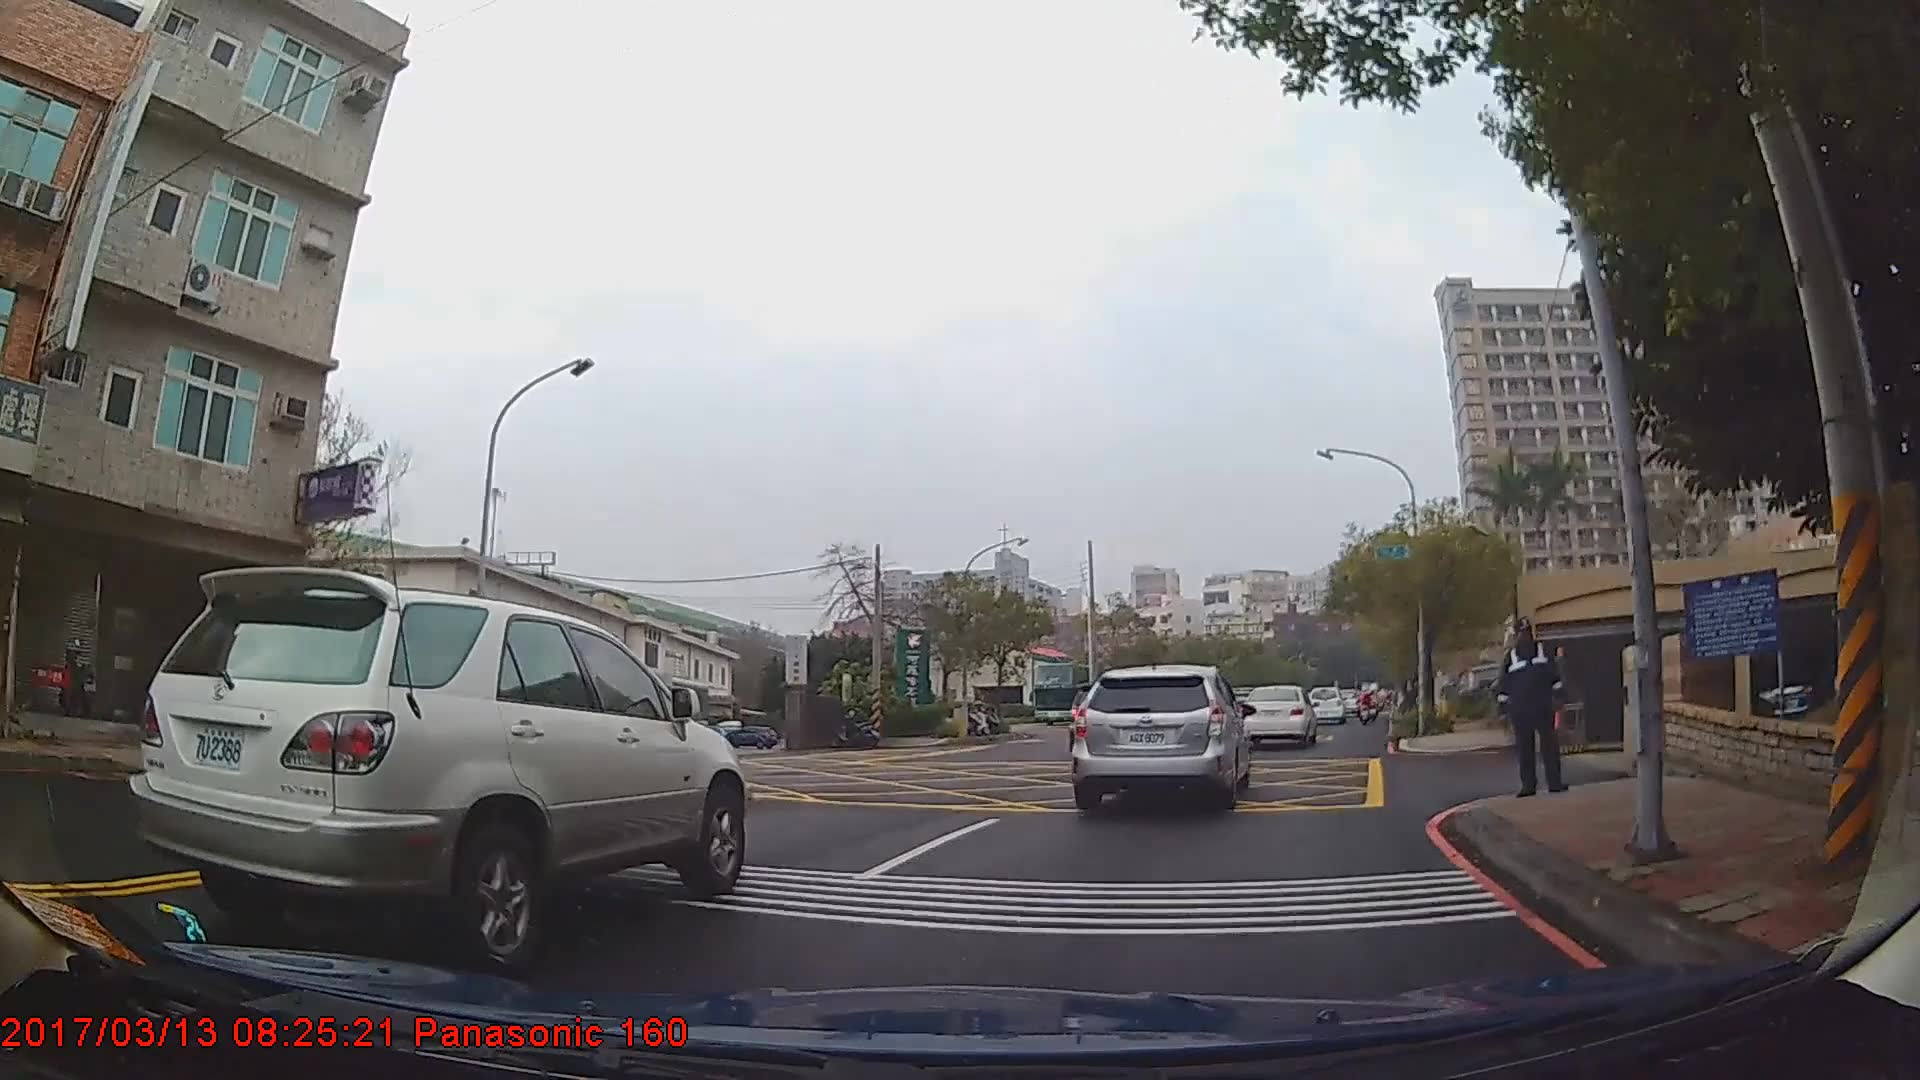pedestrian: (1499, 614, 1568, 799)
vehicle: (126, 565, 747, 976), (1070, 660, 1250, 813), (1237, 683, 1318, 749), (1306, 684, 1346, 725), (720, 724, 778, 746)
